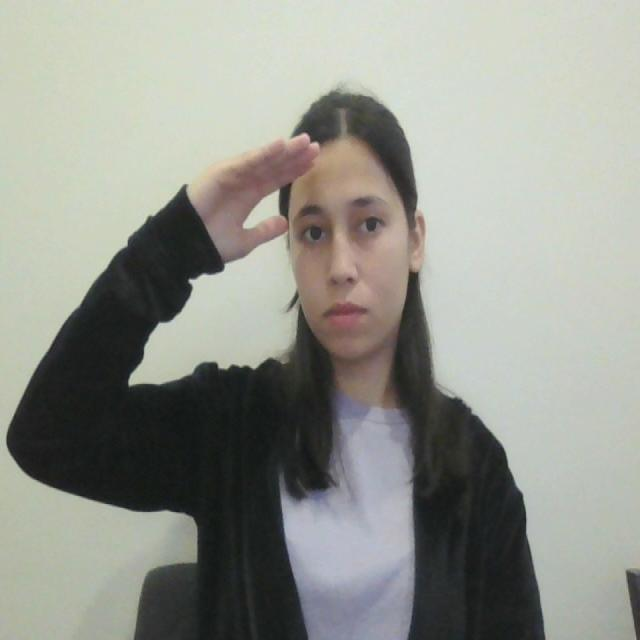Merhaba: (168, 92, 328, 338)
